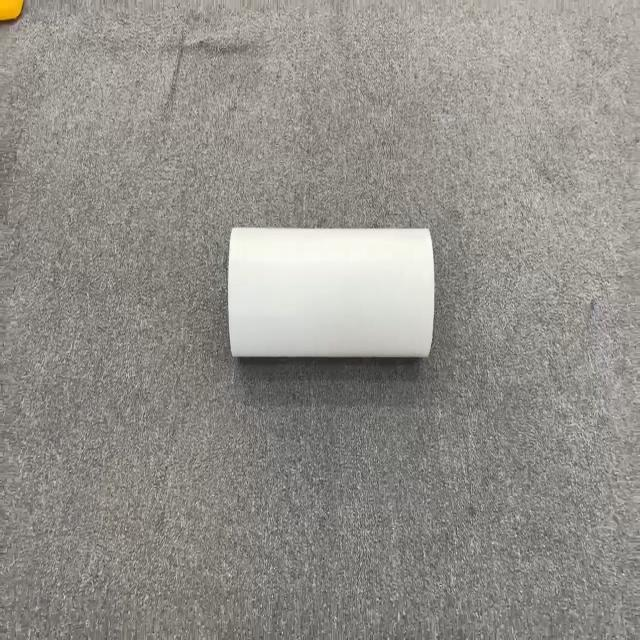coral: (227, 225, 435, 360)
